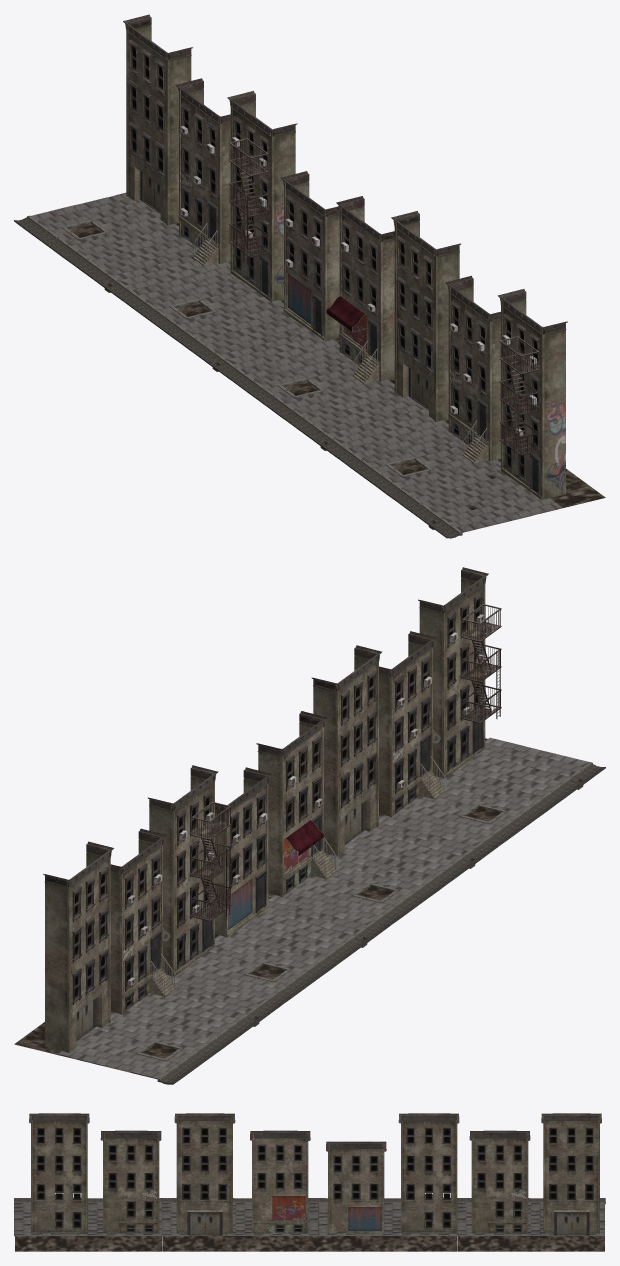
Rendered from JNKYZ_Bg.glb.
3 views of the same model, one above another, from view 1: azimuth 30°, elevation 25°; view 2: azimuth 150°, elevation 25°; view 3: azimuth 270°, elevation 25° (orthographic). The views are drawn at different scales.
Parts seen in each view (by area): view 1: Cube.001, Brooklyn_Building_3high_Brooklyn_Building_3high_Front_0.001, Brooklyn_Building_3high_Shop_Brooklyn_Building_3high_Shop_Fr, Brooklyn_Building_2high_WBase_Brooklyn_Building_2high_WBase_, Brooklyn_Building_2high_Shop_Brooklyn_Building_2high_Shop_Fr, Brooklyn_Building_3high_WBase_Shop_Brooklyn_Building_3high_W; view 2: Cube.001, Brooklyn_Building_3high_Brooklyn_Building_3high_Front_0.001, Brooklyn_Building_3high_Shop_Brooklyn_Building_3high_Shop_Fr, Brooklyn_Building_2high_WBase_Brooklyn_Building_2high_WBase_, Brooklyn_Building_3high_WBase_Shop_Brooklyn_Building_3high_W, Brooklyn_Building_2high_Shop_Brooklyn_Building_2high_Shop_Fr; view 3: Cube.001, Brooklyn_Building_3high_Shop_Brooklyn_Building_3high_Shop_Fr, Brooklyn_Building_3high_Brooklyn_Building_3high_Front_0.001, Brooklyn_Building_2high_WBase_Brooklyn_Building_2high_WBase_, Brooklyn_Building_3high_WBase_Shop_Brooklyn_Building_3high_W, Brooklyn_Building_2high_Shop_Brooklyn_Building_2high_Shop_Fr.
Part boxes in pixels (box(x1,y1,x2,y2)): Cube.001: box(14, 192, 605, 538); Brooklyn_Building_3high_Brooklyn_Building_3high_Front_0.001: box(227, 91, 567, 499); Brooklyn_Building_3high_Shop_Brooklyn_Building_3high_Shop_Fr: box(123, 14, 460, 422); Brooklyn_Building_2high_WBase_Brooklyn_Building_2high_WBase_: box(175, 78, 500, 463); Brooklyn_Building_2high_Shop_Brooklyn_Building_2high_Shop_Fr: box(180, 126, 537, 435); Brooklyn_Building_3high_WBase_Shop_Brooklyn_Building_3high_W: box(326, 196, 394, 381); Cube.001: box(14, 737, 605, 1084); Brooklyn_Building_3high_Brooklyn_Building_3high_Front_0.001: box(148, 567, 501, 976); Brooklyn_Building_3high_Shop_Brooklyn_Building_3high_Shop_Fr: box(43, 645, 382, 1052); Brooklyn_Building_2high_WBase_Brooklyn_Building_2high_WBase_: box(110, 631, 445, 1014); Brooklyn_Building_3high_WBase_Shop_Brooklyn_Building_3high_W: box(256, 711, 327, 896); Brooklyn_Building_2high_Shop_Brooklyn_Building_2high_Shop_Fr: box(127, 614, 484, 986); Cube.001: box(14, 1198, 605, 1251); Brooklyn_Building_3high_Shop_Brooklyn_Building_3high_Shop_Fr: box(174, 1113, 601, 1235); Brooklyn_Building_3high_Brooklyn_Building_3high_Front_0.001: box(29, 1113, 459, 1234); Brooklyn_Building_2high_WBase_Brooklyn_Building_2high_WBase_: box(100, 1130, 530, 1233); Brooklyn_Building_3high_WBase_Shop_Brooklyn_Building_3high_W: box(250, 1130, 310, 1233); Brooklyn_Building_2high_Shop_Brooklyn_Building_2high_Shop_Fr: box(57, 1141, 450, 1234).
Bounding box in the file's own units: 10.58 × 11.57 × 49.62.
Materials: 21 (21 with a texture image).
